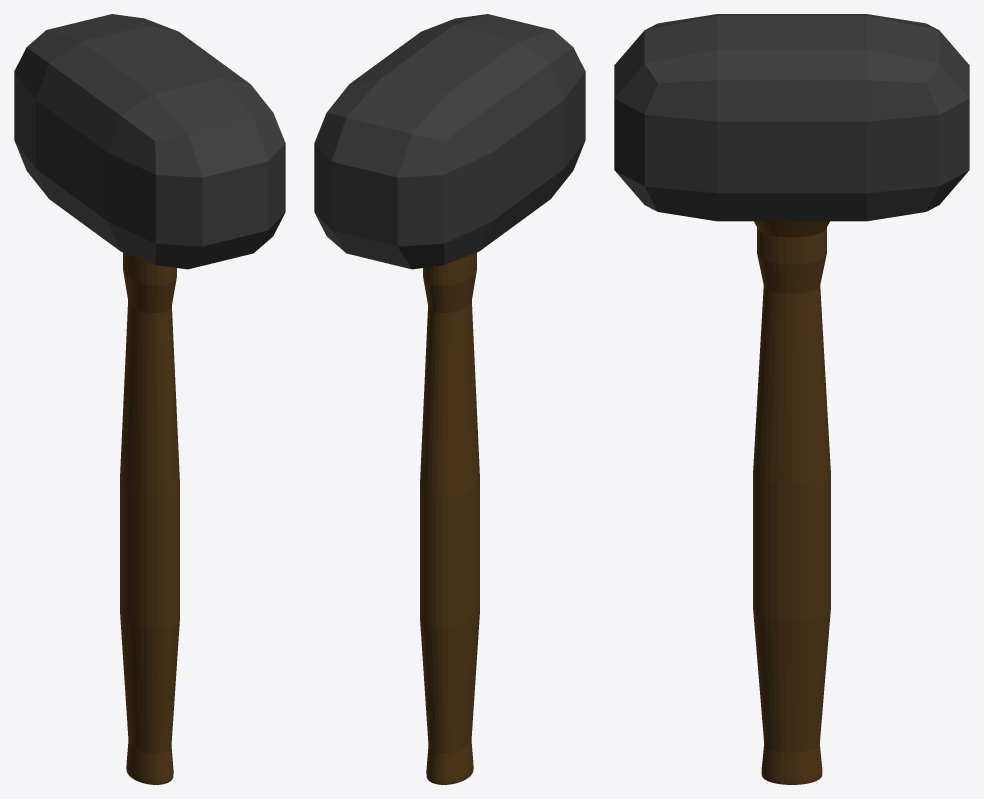
Rendered from sledgehammer.fbx.
The picture shows the model from 3 angles, left to right: view 1: azimuth 30°, elevation 25°; view 2: azimuth 150°, elevation 25°; view 3: azimuth 270°, elevation 25°; orthographic projection. The views are drawn at different scales.
Visible parts, largest first — view 1: Cube, hammer handle; view 2: Cube, hammer handle; view 3: Cube, hammer handle.
Part boxes in pixels (left/top/right/bottom): Cube: left=14, top=14, right=285, bottom=269; hammer handle: left=120, top=252, right=179, bottom=784; Cube: left=314, top=14, right=585, bottom=269; hammer handle: left=420, top=252, right=479, bottom=784; Cube: left=614, top=14, right=969, bottom=221; hammer handle: left=753, top=221, right=830, bottom=784.
Bounding box in the file's own units: 17.49 × 76.31 × 33.04.
